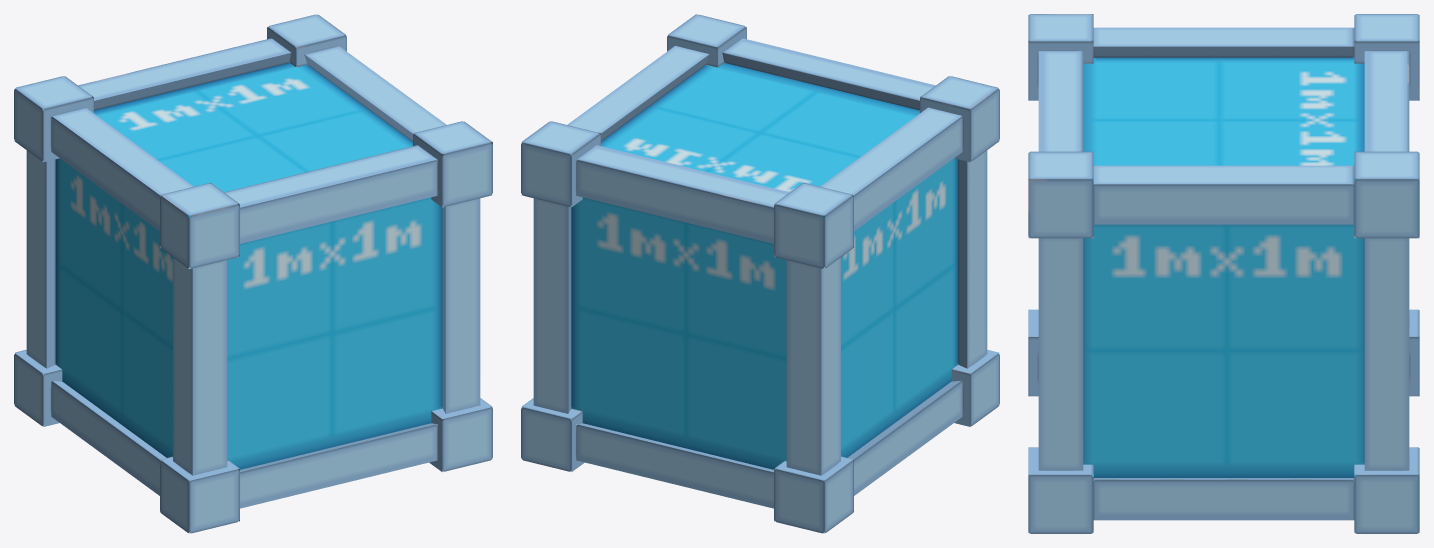
File: cubemodel.fbx
The picture shows the model from 3 angles, left to right: view 1: azimuth 30°, elevation 25°; view 2: azimuth 150°, elevation 25°; view 3: azimuth 270°, elevation 25°; orthographic projection. The views are drawn at different scales.
Parts seen in each view (by area): view 1: mesh; view 2: mesh; view 3: mesh.
Part boxes in pixels (left/top/right/bottom): mesh: left=14, top=14, right=492, bottom=533; mesh: left=521, top=14, right=999, bottom=533; mesh: left=1028, top=14, right=1419, bottom=533.
Bounding box in the file's own units: 100 × 100 × 100.
